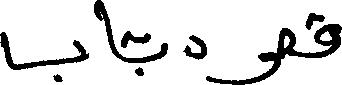X: (0, 27, 84, 84), (239, 43, 277, 84), (315, 9, 341, 62), (185, 30, 206, 84), (99, 0, 117, 62), (279, 23, 295, 71), (158, 38, 166, 63)
